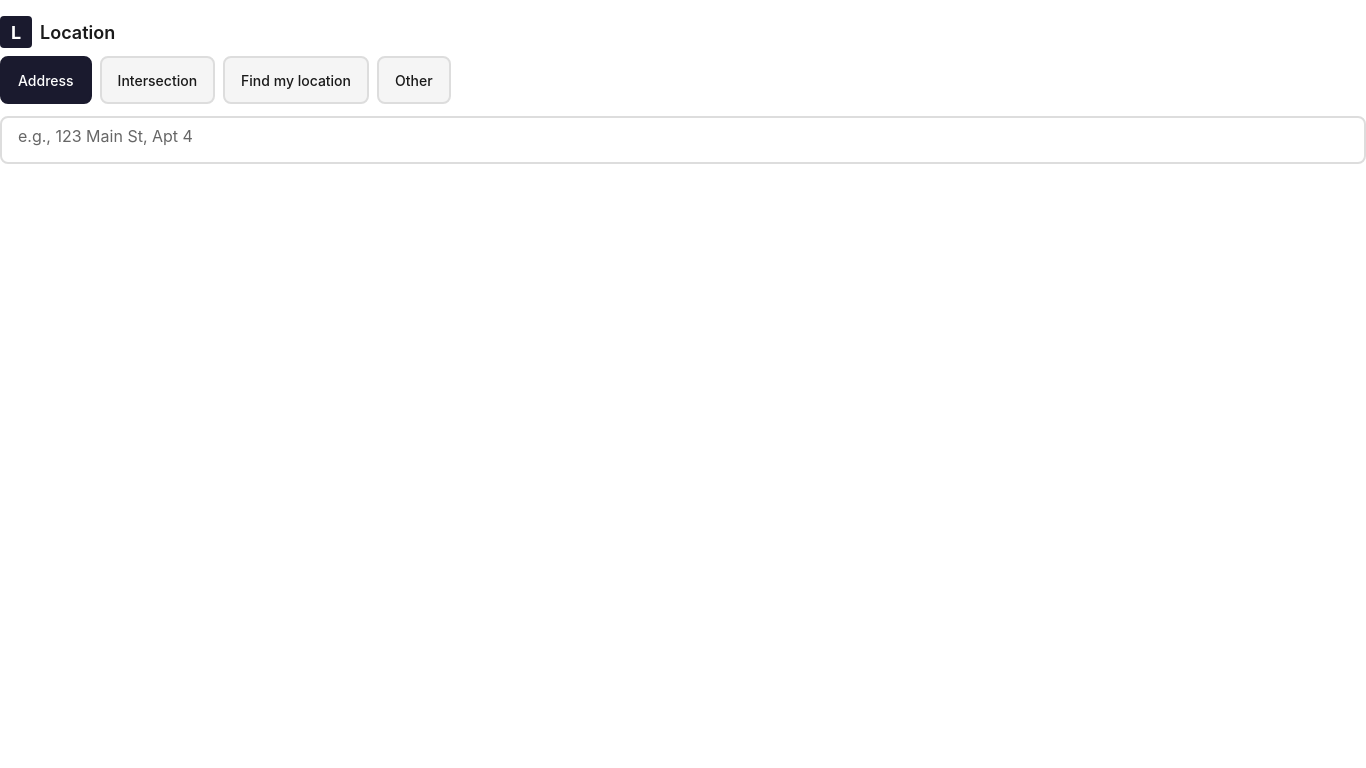
Scenario: LocationSection › GPS Mode - Secure Context Detection › shows privacy dialog when GPS mode is selected
The image size is (1366, 768).
Click the button "Find my location". click: (296, 80)
box: [223,56,369,104]
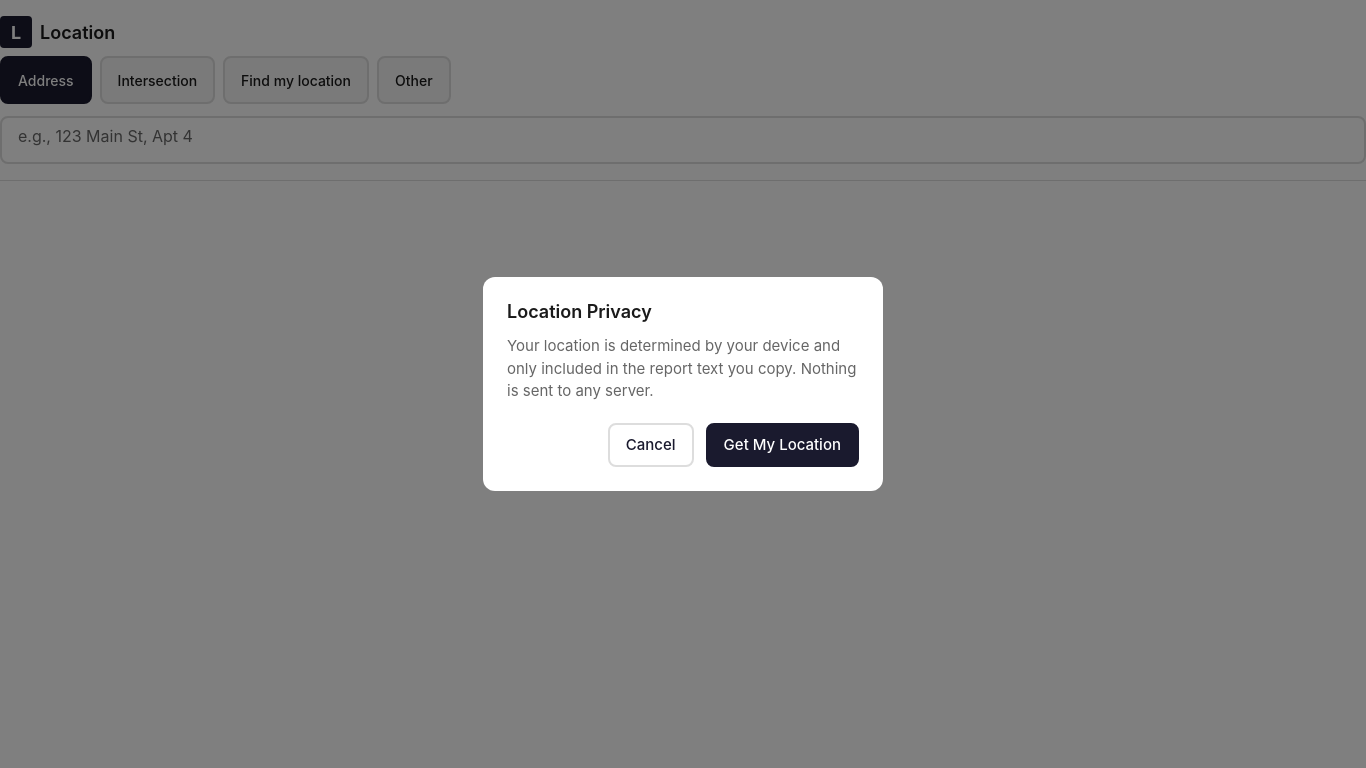
Now the heading "Location Privacy" is shown, box [507,302,652,322]
